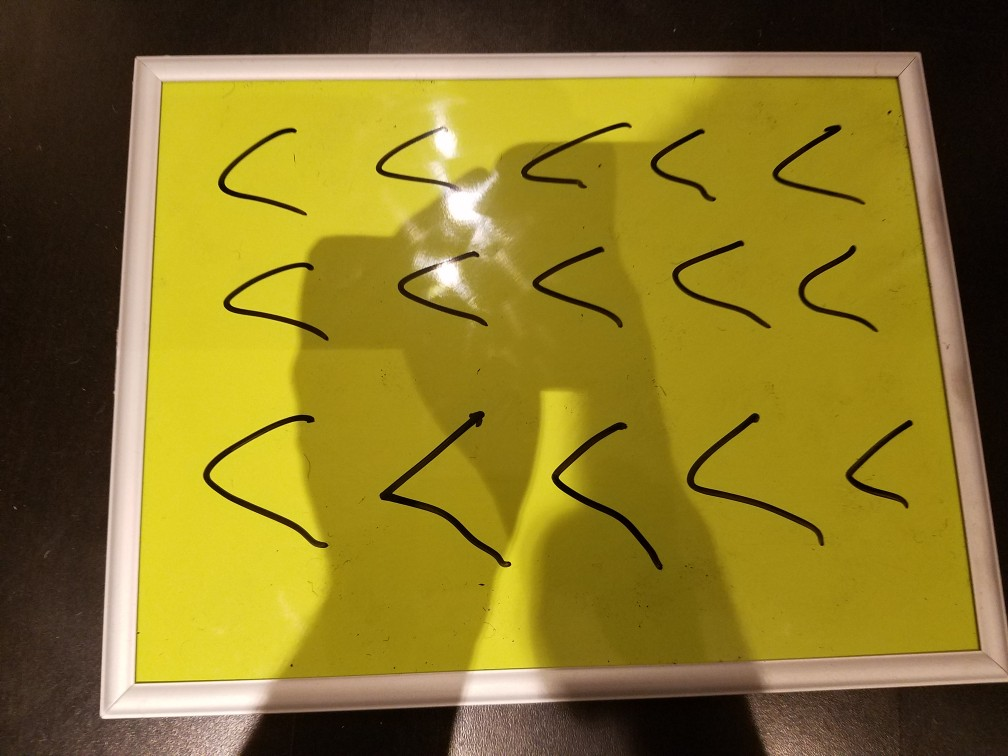<: (158, 392, 370, 585), (520, 403, 679, 597), (368, 398, 517, 591), (674, 401, 832, 570), (820, 382, 939, 521), (194, 252, 342, 356), (197, 103, 318, 224), (652, 220, 769, 344), (748, 107, 876, 216), (788, 228, 892, 350), (382, 232, 494, 342), (520, 227, 626, 342), (516, 107, 634, 203), (362, 111, 468, 205), (645, 113, 726, 211)
